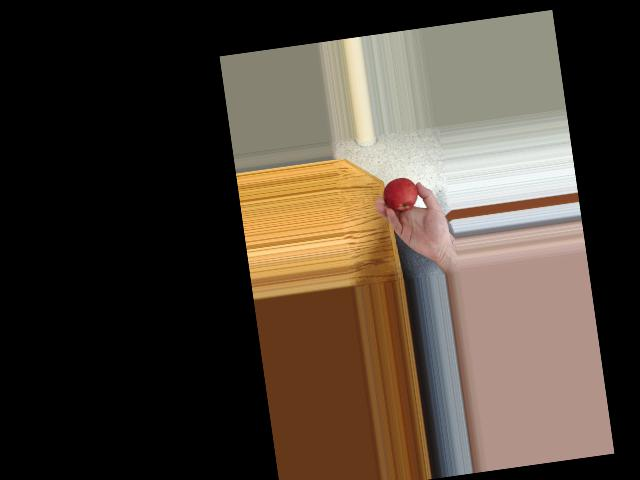apple: (380, 174, 418, 213)
